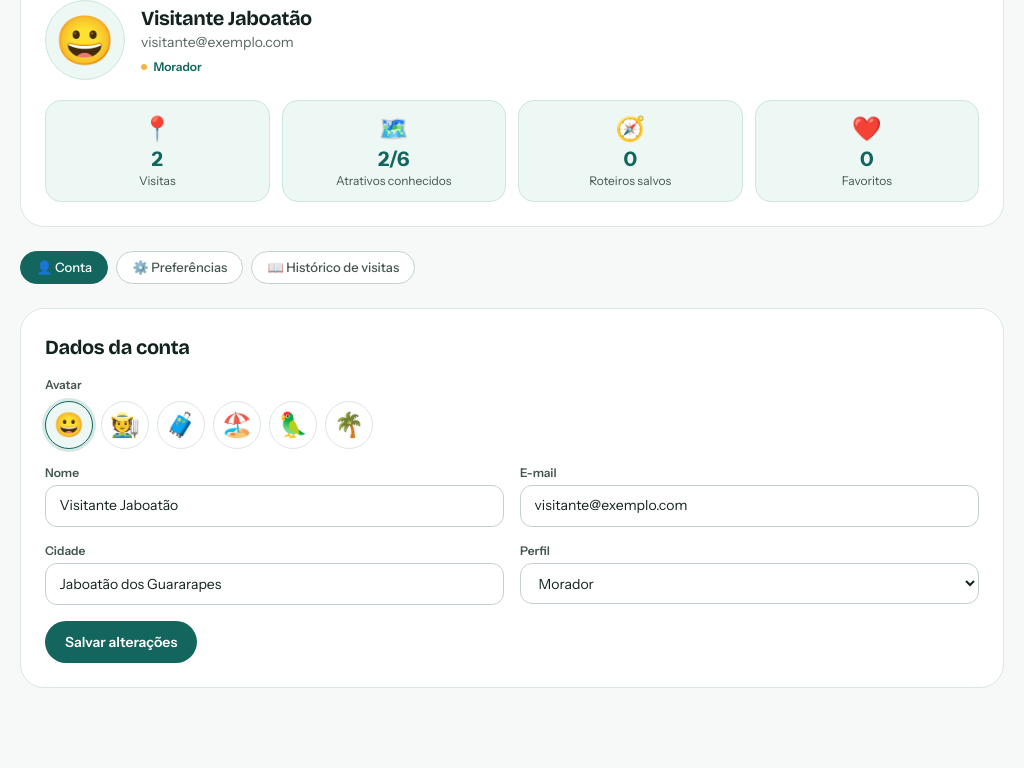
Test: Tela de Perfil › atualiza os dados da conta ao salvar
The width and height of the screenshot is (1024, 768).
(page scrolled)
Replace the text in the field showing "Visitante Jaboatão" below "Nome" with "Maria" at (274, 506), box [45, 485, 504, 527]
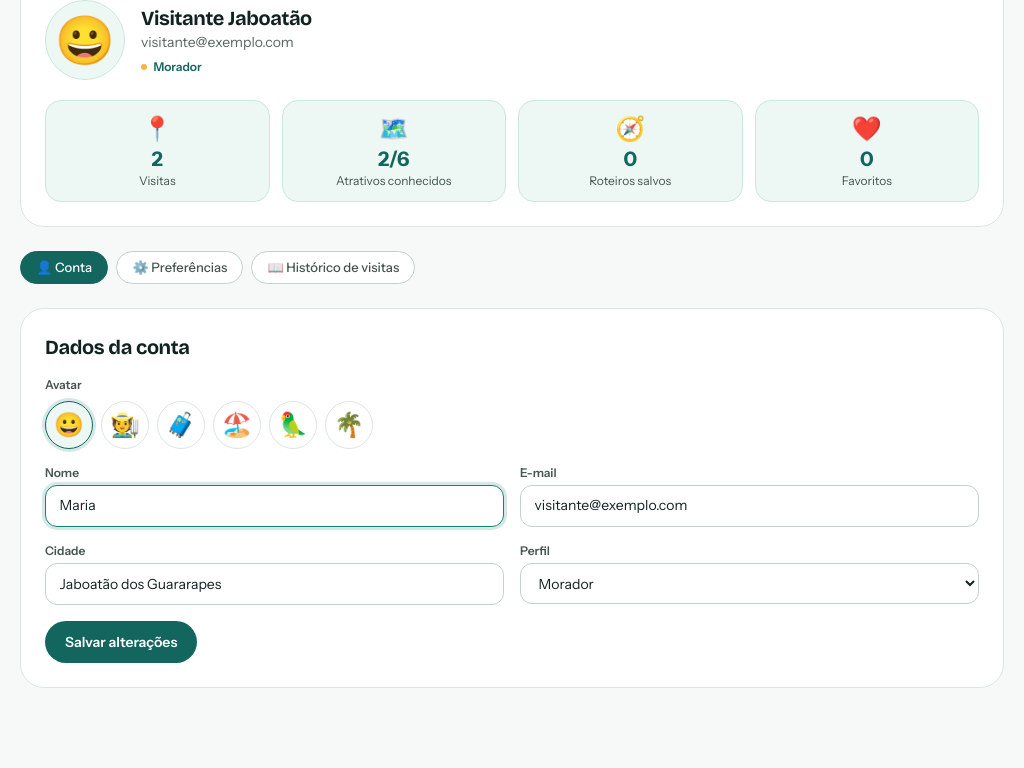
Click the button "Salvar alterações".
click(121, 642)  # box [45, 621, 197, 663]
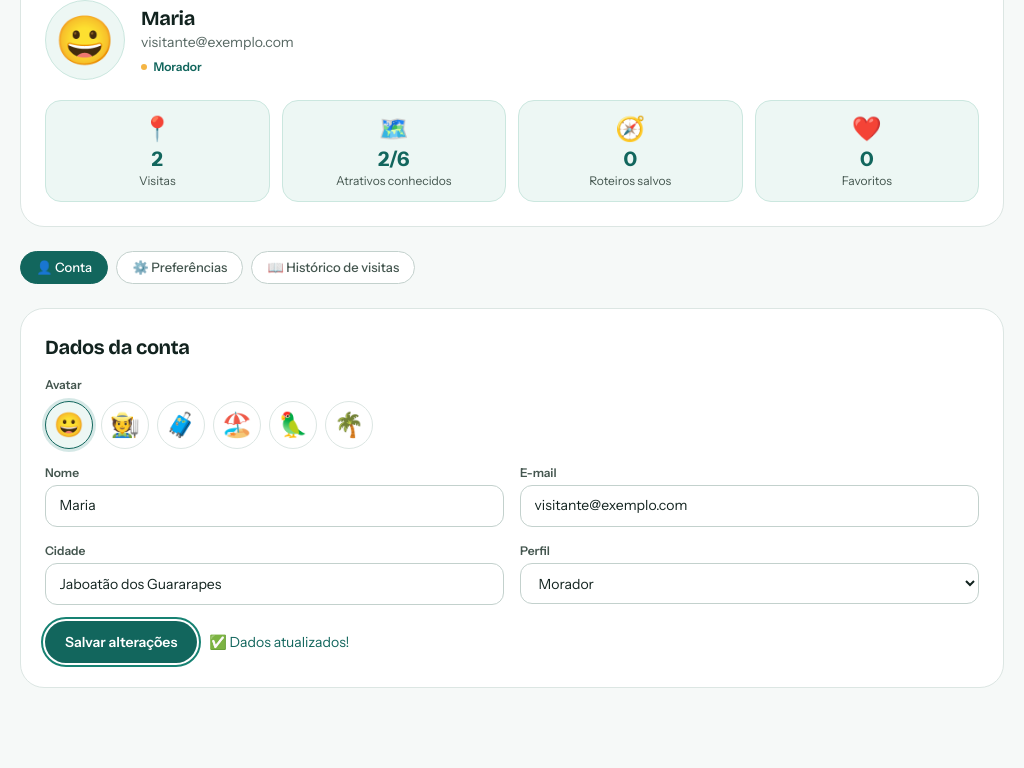
Check: the text "✅ Dados atualizados!" is shown, box [209, 632, 349, 652]
Check: the heading "Maria" is shown, box [141, 6, 195, 30]
